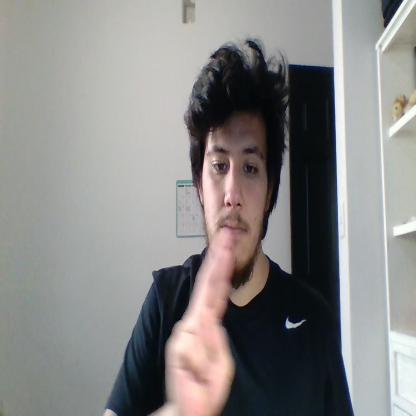R: (165, 230, 235, 416)
